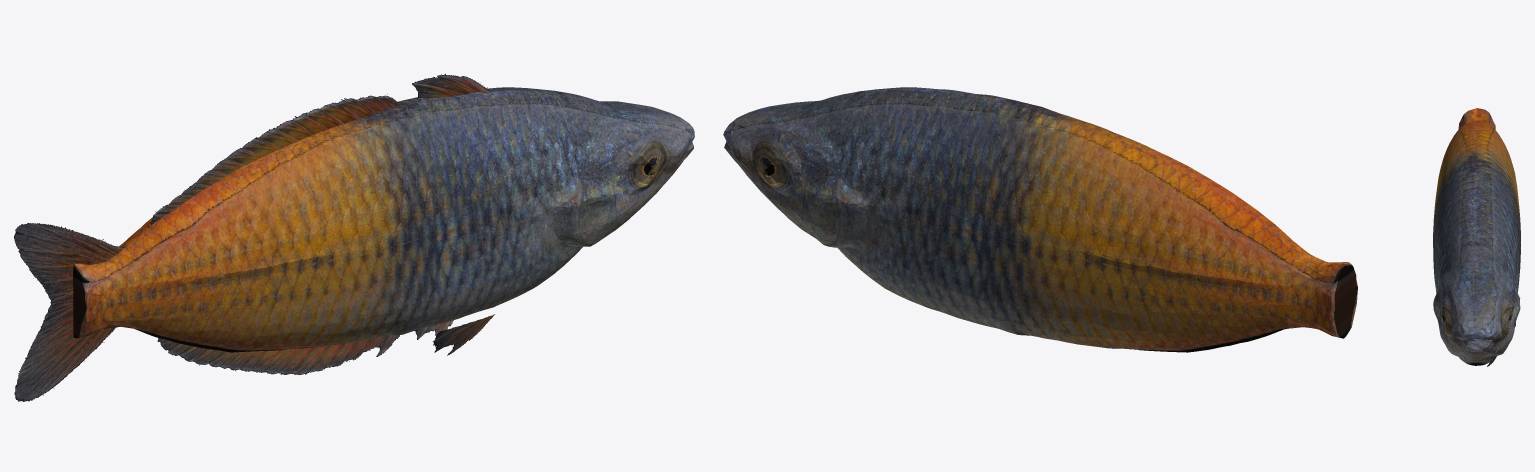
The model's file is boesemani-gen.glb.
The picture shows the model from 3 angles, left to right: view 1: azimuth 30°, elevation 25°; view 2: azimuth 150°, elevation 25°; view 3: azimuth 270°, elevation 25°; orthographic projection. The views are drawn at different scales.
Parts seen in each view (by area): view 1: body, card, pel_l; view 2: body; view 3: body.
Boxes of the visible parts, left/top/right/bottom form: body: left=73, top=87, right=694, bottom=352; card: left=14, top=74, right=490, bottom=401; pel_l: left=433, top=314, right=494, bottom=355; body: left=723, top=87, right=1357, bottom=352; body: left=1433, top=108, right=1520, bottom=365.
Size of the model in its own units: 1 by 0.3943 by 0.1545.
4 materials, 4 textured.
